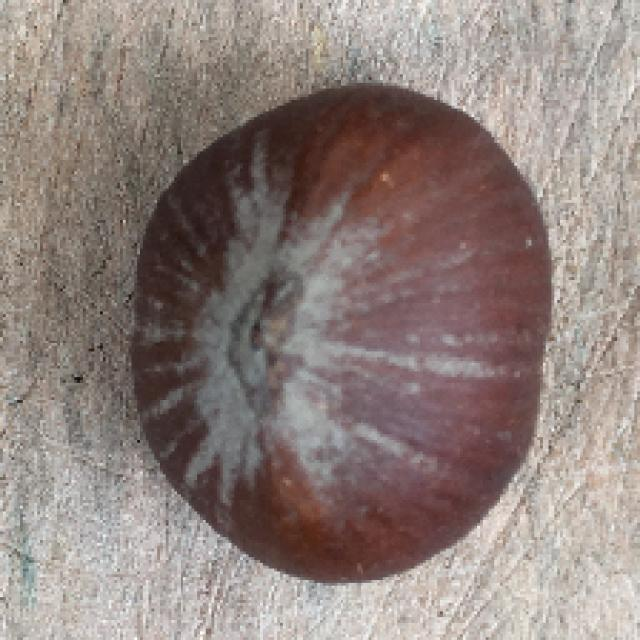damagedHazelnut: (114, 76, 551, 586)
